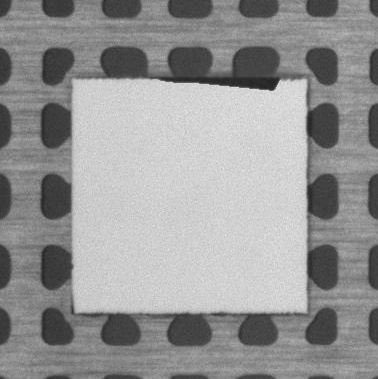DIE_BROKEN: (154, 71, 283, 91)
